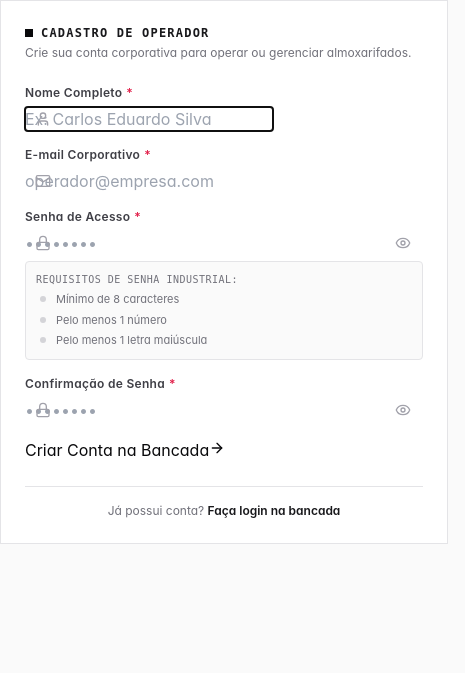
Scenario: RegisterForm (FT-06) › trata erro 409 Conflict (email-already-exists) exibindo erro no input e no banner sem crash
Type "Carlos Silva" into the field labelled "Nome Completo*". click: x=149, y=119
box: [25,107,273,131]
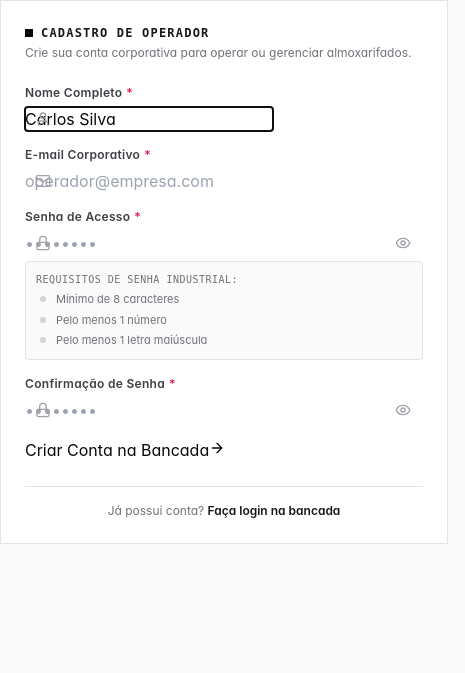
Type "carlos.duplicado@empresa.com" into the field labelled "E-mail Corporativo*". click: x=149, y=181
box: [25,169,273,193]
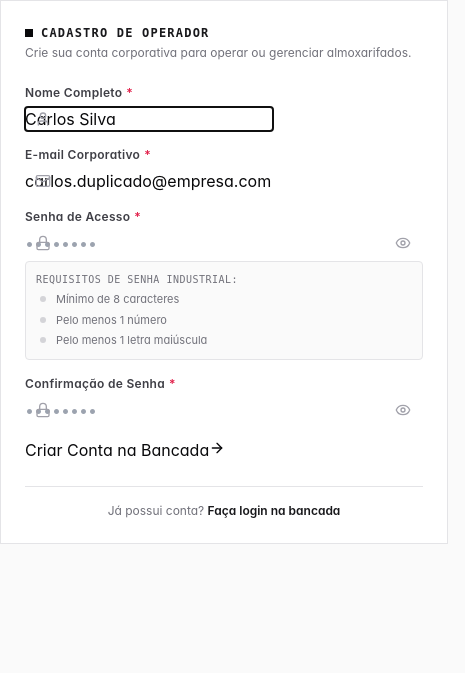
Type "SenhaForte123" into the password field labelled "Senha de Acesso*". click: x=149, y=243
box: [25,231,273,255]
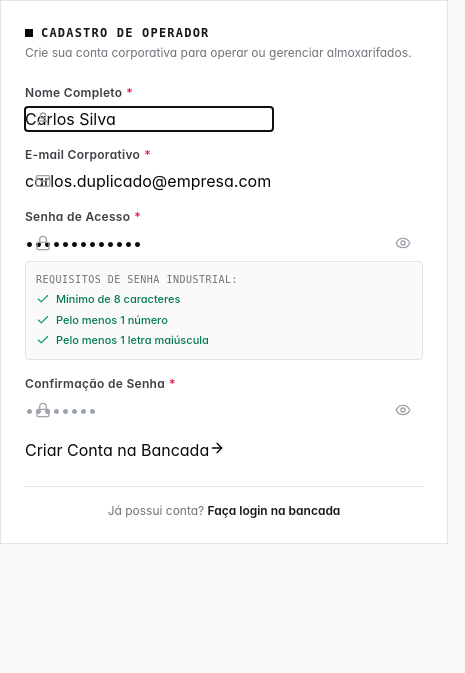
Type "SenhaForte123" into the password field labelled "Confirmação de Senha*". click: x=149, y=410
box: [25,398,273,422]
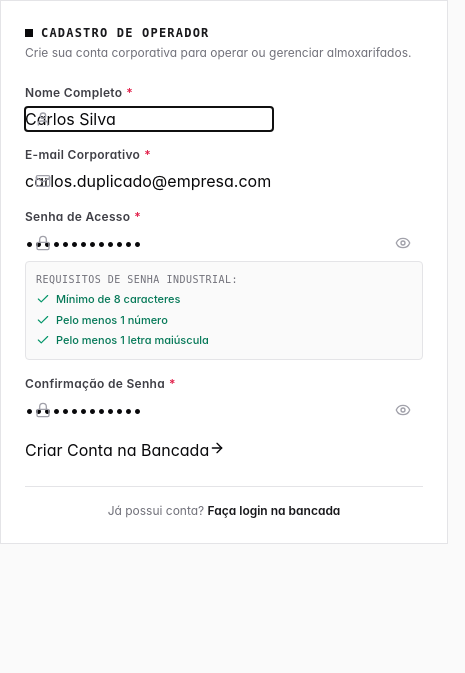
Click the button "Criar Conta na Bancada". click: x=125, y=450
box: [25,438,225,462]
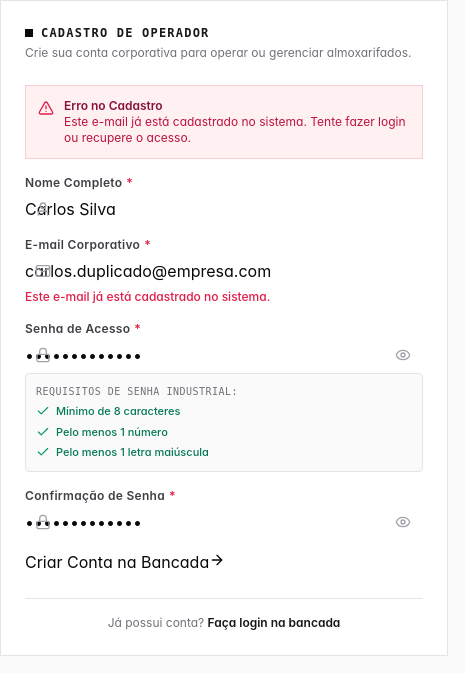
expect the text "Este e-mail já está cadastrado no sistema. Tente fazer login ou recupere o acesso." is shown: met, box [64,114,406,145]
